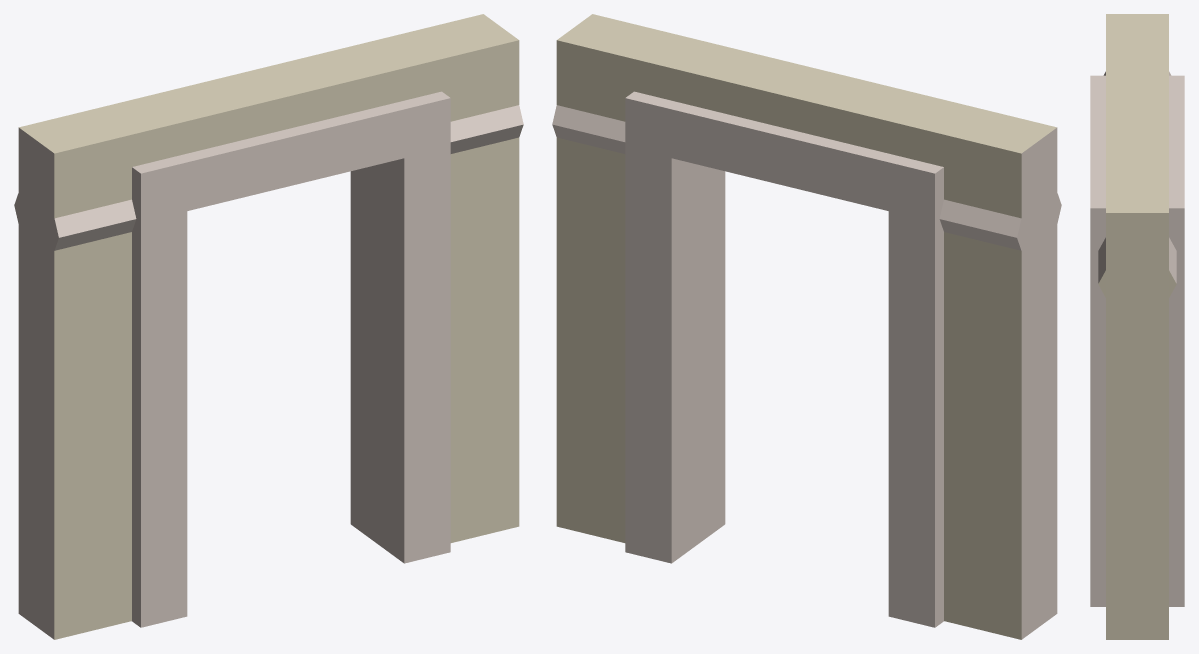
Rendered from roman_wall_door_1.fbx.
3 renders of one model, left to right at view 1: azimuth 30°, elevation 25°; view 2: azimuth 150°, elevation 25°; view 3: azimuth 270°, elevation 25°, orthographic. The views are drawn at different scales.
Visible parts, largest first — view 1: Cube.017; view 2: Cube.017; view 3: Cube.017.
Boxes of the visible parts, <box> form: Cube.017: <box>14,14,523,639</box>; Cube.017: <box>552,14,1061,639</box>; Cube.017: <box>1090,14,1184,639</box>.
Bounding box in the file's own units: 3 × 3 × 0.6.
